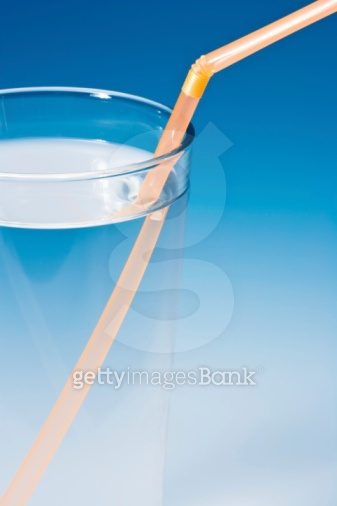glass of water: (1, 74, 211, 505)
